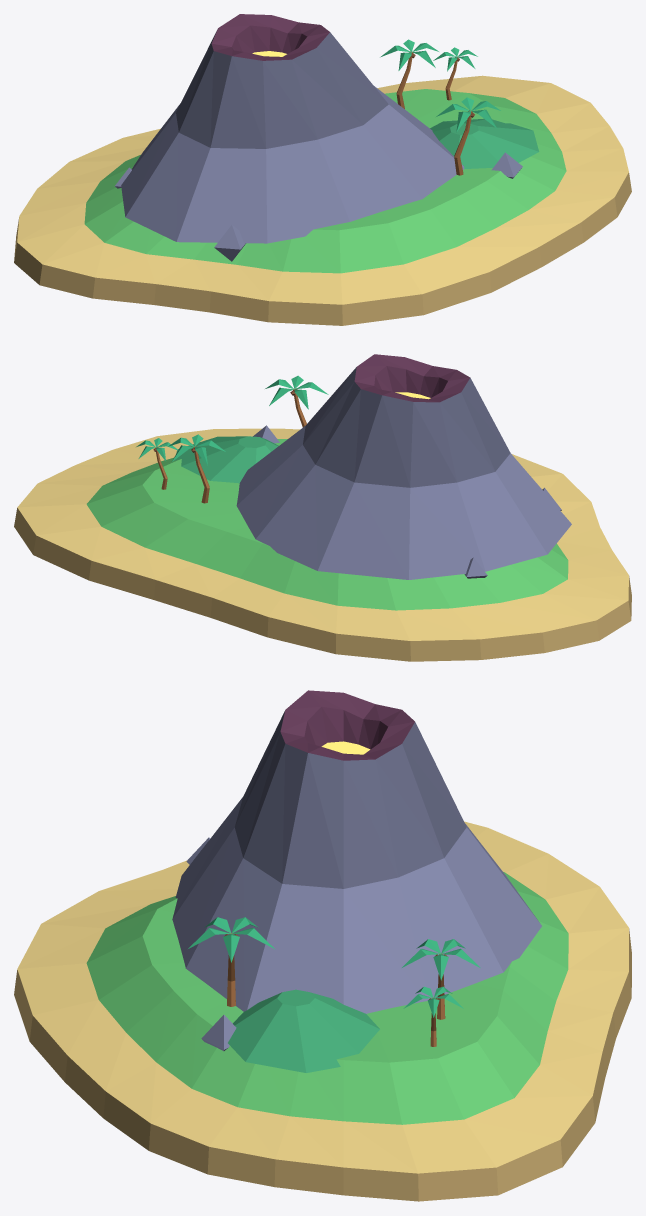
Rendered from island-volcano.glb.
3 renders of one model, top to bottom at view 1: azimuth 30°, elevation 25°; view 2: azimuth 150°, elevation 25°; view 3: azimuth 270°, elevation 25°, orthographic. The views are drawn at different scales.
Parts seen in each view (by area): view 1: sand, rock, grass, rock_shadow, sand_edge, crater, grass_shadow, leaf, trunk; view 2: rock, sand, grass, rock_shadow, sand_edge, crater, grass_shadow, leaf, trunk; view 3: sand, grass, rock, rock_shadow, sand_edge, grass_shadow, crater, leaf, trunk.
Part boxes in pixels (x1,y1,x2,y2): sand: (17,75,628,304); rock: (115,86,522,261); grass: (84,89,566,273); rock_shadow: (176,31,388,148); sand_edge: (14,172,631,325); crater: (211,14,329,60); grass_shadow: (430,118,539,168); leaf: (380,39,500,131); trunk: (396,52,472,175); rock: (236,425,571,579); sand: (17,428,628,640); grass: (86,439,568,610); rock_shadow: (303,367,510,487); sand_edge: (14,508,631,661); crater: (354,354,470,402); grass_shadow: (174,436,278,483); leaf: (136,375,328,465); trunk: (155,388,306,503); sand: (17,821,628,1173); grass: (86,872,568,1124); rock: (172,797,541,1051); rock_shadow: (234,710,466,888); sand_edge: (14,928,631,1201); grass_shadow: (228,989,379,1072); crater: (280,690,414,760); leaf: (188,917,480,1017); trunk: (227,932,445,1046).
Bounding box in the file's own units: 23.39 × 7.5 × 16.51.
